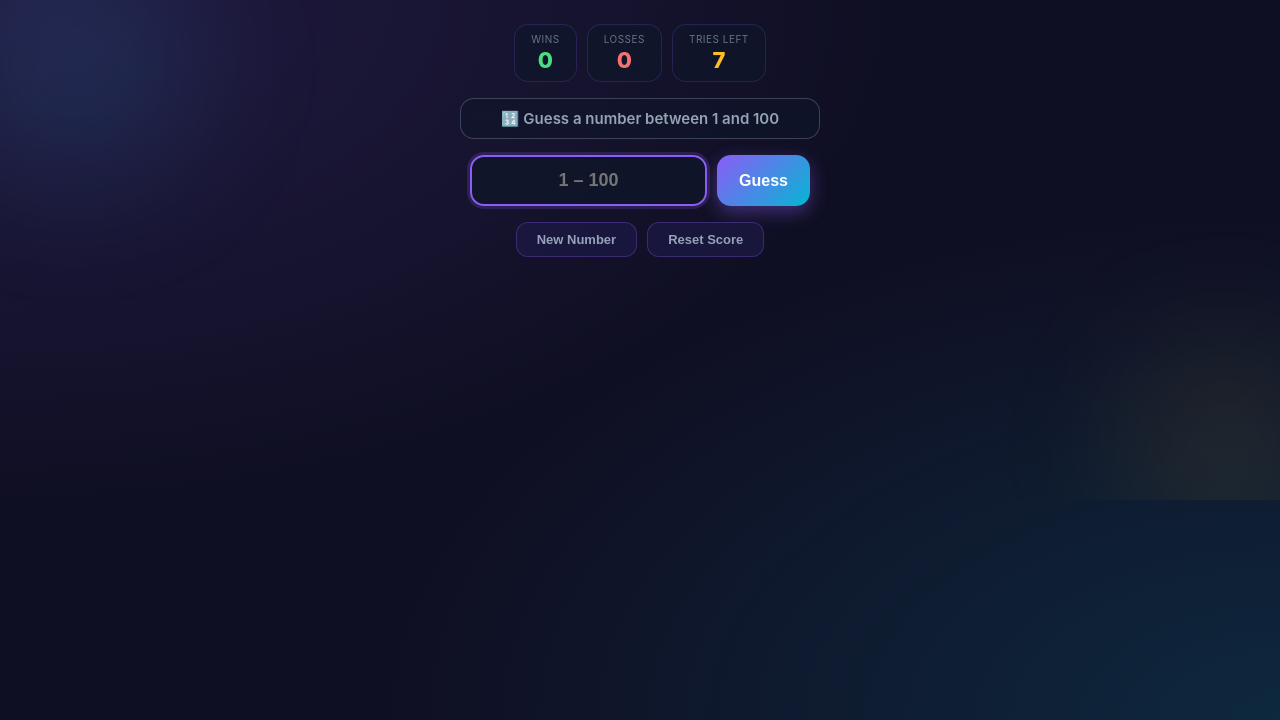
Test case: NumberGuessing Game › handles low and high guesses
The width and height of the screenshot is (1280, 720).
// Guess low
In the number field with placeholder "1 – 100": (589, 180) [470,155,707,206], type "30"
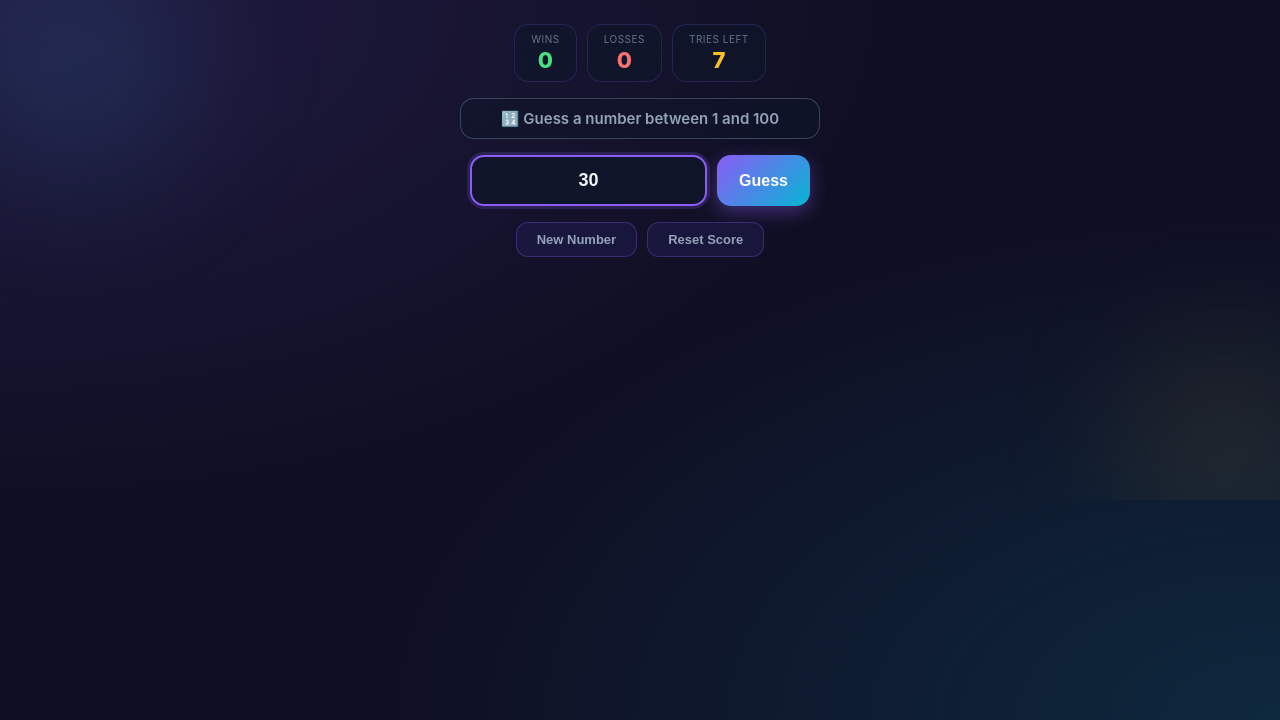
Click the button "Guess": click(764, 180) [717,155,810,206]
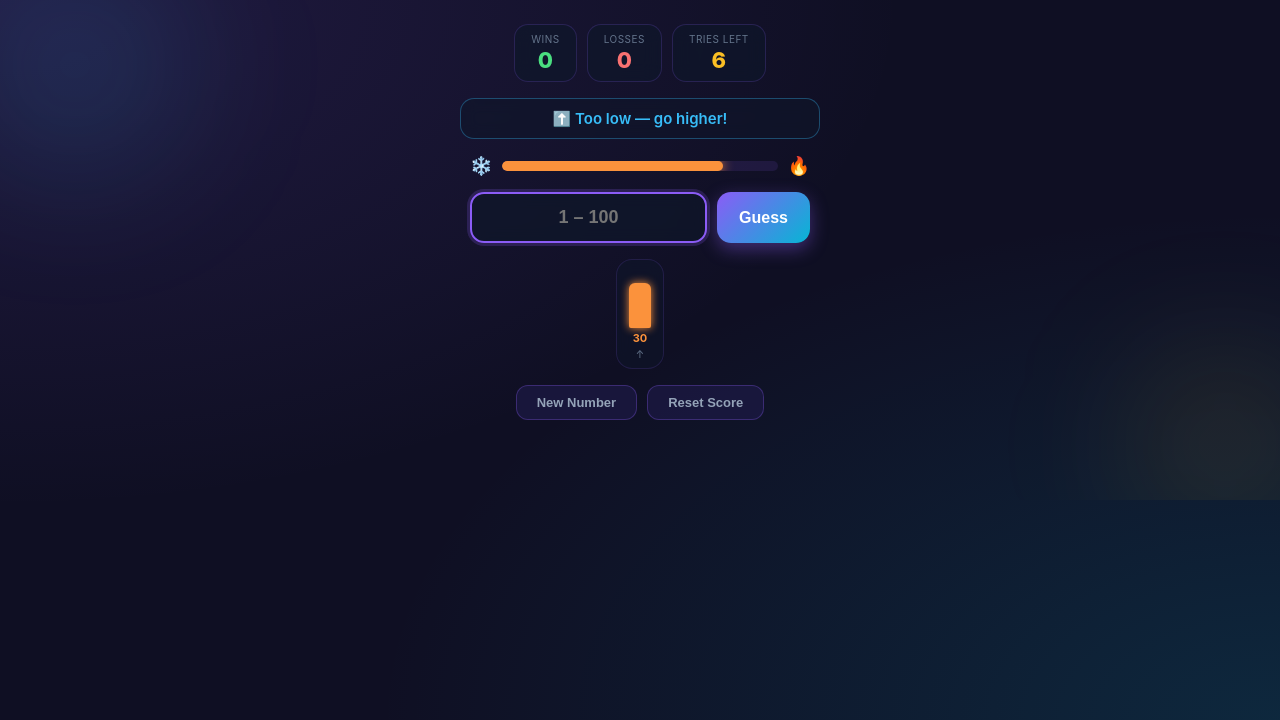
expect the text "⬆️ Too low — go higher!" is shown: met, box [460,98,820,139]
// Guess high
In the number field with placeholder "1 – 100": (589, 218) [470,192,707,243], type "70"
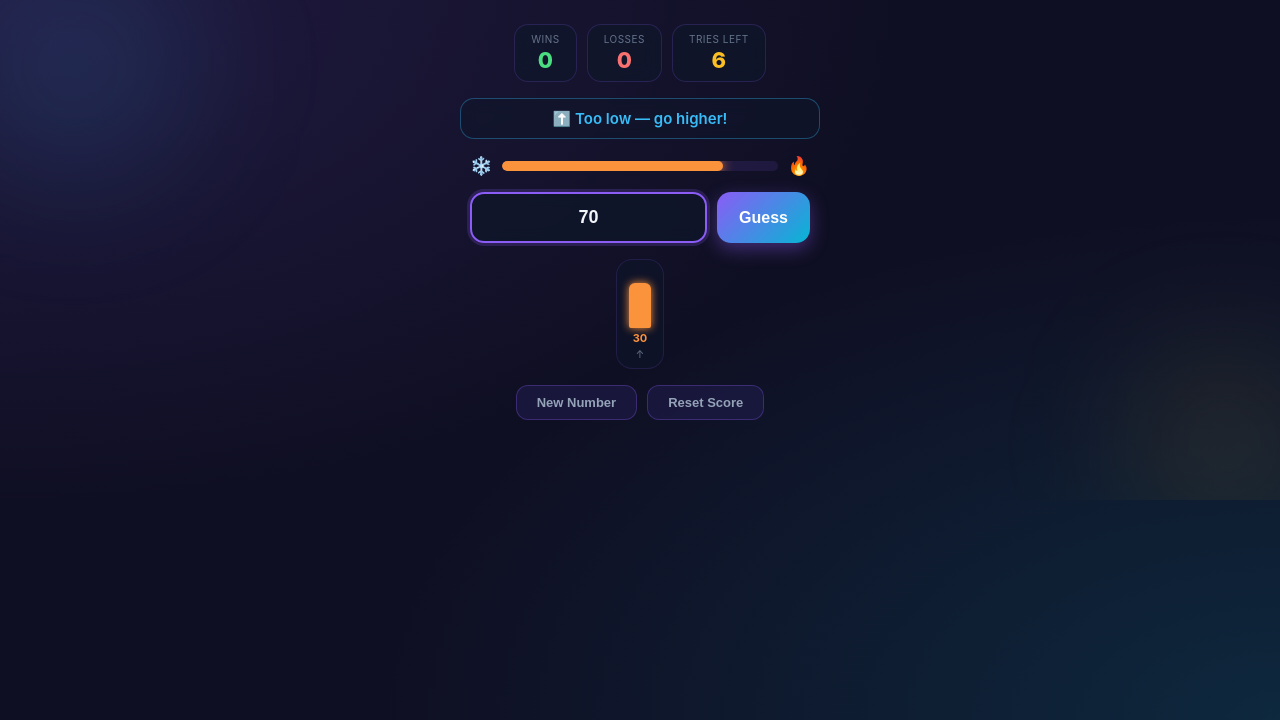
Click the button "Guess": click(764, 218) [717,192,810,243]
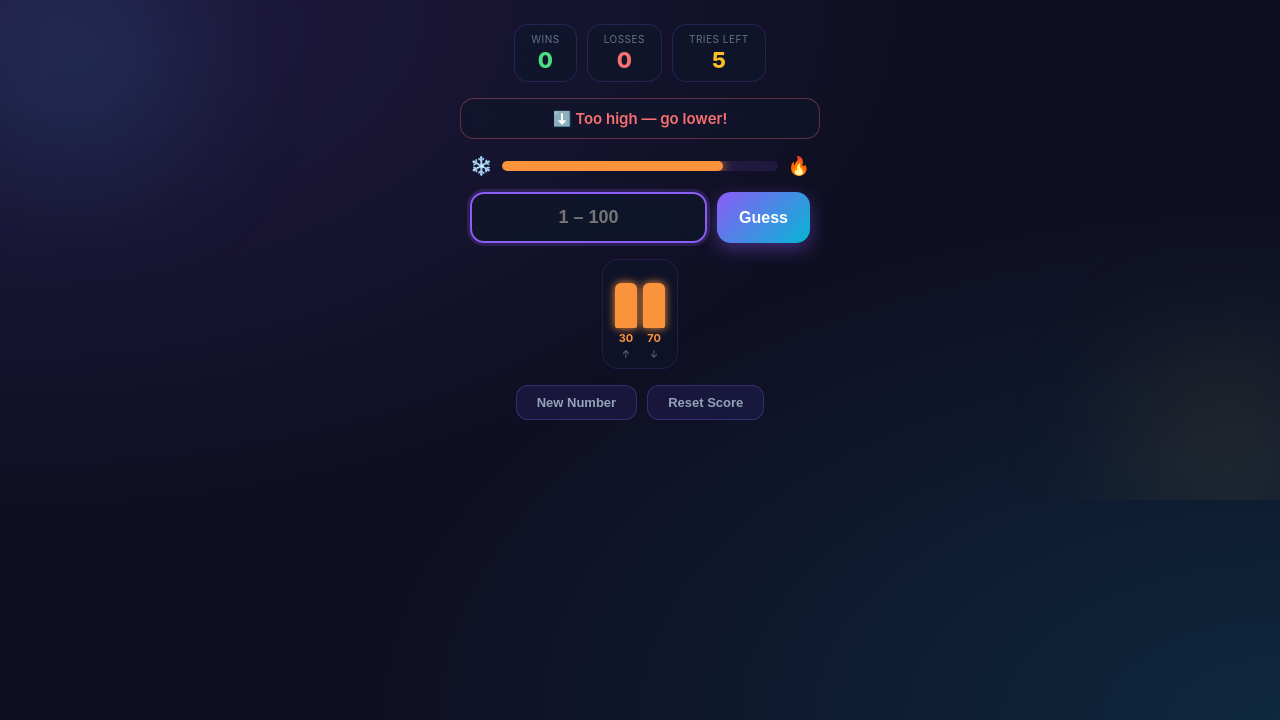
expect the text "⬇️ Too high — go lower!" is shown: met, box [460,98,820,139]
